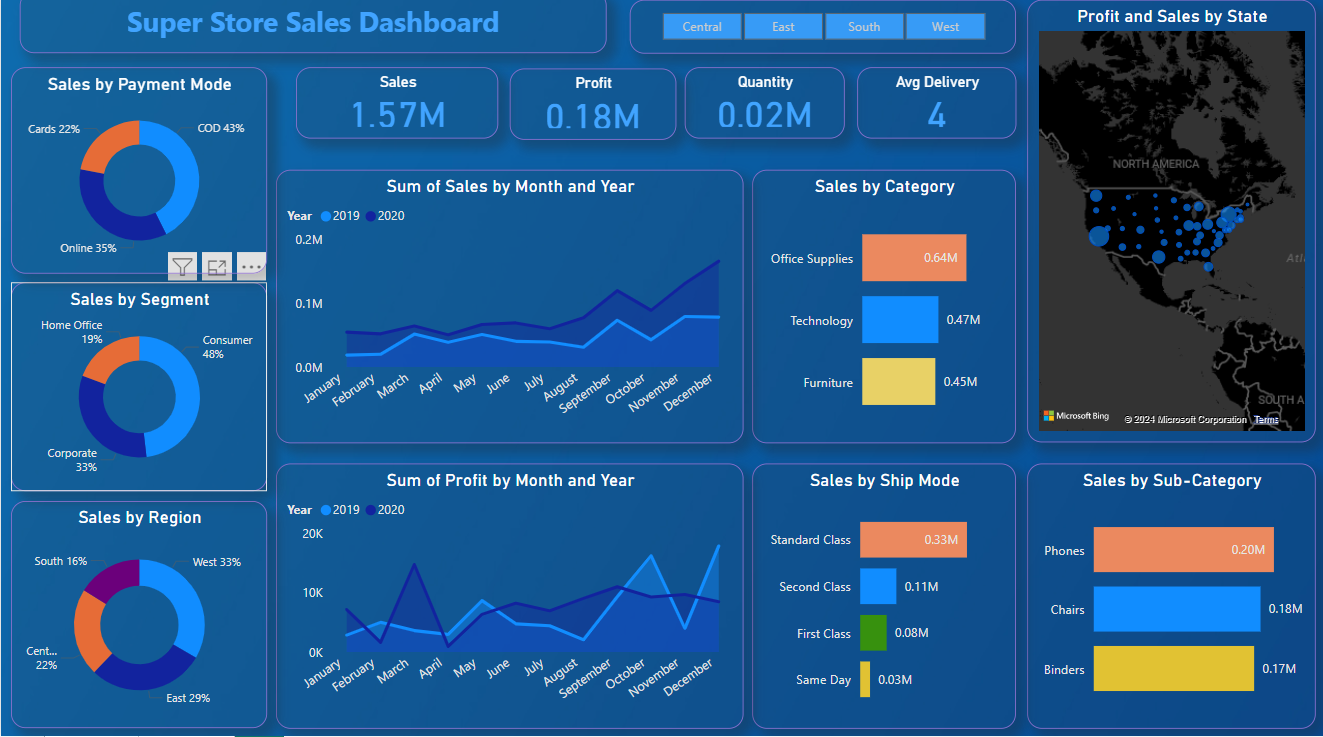

What the dashboard file says about the page in this screenshot:
{"tool":"powerbi","page":{"name":"Page 1","canvas":[1280,720],"ordinal":0},"visuals":[{"type":"clusteredBarChart","title":"Sales by Category","fields":{"Category":["Sheet1.Category"],"Y":["Sum(Sheet1.Sales)"]},"box":[725.1,172.5,254.6,264.2],"z":0},{"type":"clusteredBarChart","title":"Sales by Sub-Category","fields":{"Category":["Sheet1.Sub-Category"],"Y":["Sum(Sheet1.Sales)"]},"box":[990.5,456,278.7,255.8],"z":1000},{"type":"clusteredBarChart","title":"Sales by Ship Mode","fields":{"Y":["Sum(Sheet1.Sales)"],"Category":["Sheet1.Ship Mode"]},"box":[725.1,456,254.6,255.8],"z":2000},{"type":"areaChart","fields":{"Category":["Sheet1.Order Date.Variation.Date Hierarchy.Month","Sheet1.Order Date.Variation.Date Hierarchy.Day"],"Y":["Sum(Sheet1.Sales)"],"Series":["Sheet1.Order Date.Variation.Date Hierarchy.Year"]},"box":[265.4,172.5,451.2,264.2],"z":3000},{"type":"areaChart","fields":{"Category":["Sheet1.Order Date.Variation.Date Hierarchy.Month","Sheet1.Order Date.Variation.Date Hierarchy.Day"],"Series":["Sheet1.Order Date.Variation.Date Hierarchy.Year"],"Y":["Sum(Sheet1.Profit)"]},"box":[265.4,456,451.2,255.8],"z":4000},{"type":"map","title":"Profit and Sales by State","fields":{"Category":["Sheet1.State"],"Size":["Sum(Sheet1.Sales)"]},"box":[990.5,8.4,278.7,427.1],"z":5000},{"type":"donutChart","title":"Sales by Segment","fields":{"Category":["Sheet1.Segment"],"Y":["Sum(Sheet1.Sales)"]},"box":[9.7,281.1,247.3,201.5],"z":6000},{"type":"donutChart","title":"Sales by Region","fields":{"Category":["Sheet1.Region"],"Y":["Sum(Sheet1.Sales)"]},"box":[9.7,492.2,247.3,219.6],"z":7000},{"type":"slicer","fields":{"Values":["Sheet1.Region"]},"box":[606.8,8.4,372.8,51.9],"z":8000},{"type":"textbox","box":[17.8,0,566.7,60.4],"z":9000},{"type":"card","title":"Sales","fields":{"Values":["Sum(Sheet1.Sales)"]},"box":[284.7,73.6,195.4,68.8],"z":10000},{"type":"card","title":"Profit","fields":{"Values":["Sum(Sheet1.Profit)"]},"box":[491,74.8,160.5,68.8],"z":11000},{"type":"card","title":"Quantity","fields":{"Values":["Sum(Sheet1.Quantity)"]},"box":[659.9,73.6,154.4,68.8],"z":12000},{"type":"card","title":"Avg Delivery","fields":{"Values":["Avg(Sheet1.avgDelivery)"]},"box":[826.4,73.6,153.2,68.8],"z":13000},{"type":"donutChart","title":"Sales by Payment Mode","fields":{"Category":["SuperStore_Sales.Payment Mode"],"Y":["Sum(Sheet1.Sales)"]},"box":[9.7,73.6,247.3,199.1],"z":15000}]}

Visuals, with their boxes in screenshot pixels (x1, y1, x2, y2), scaled from the page's 1280x720 canvas onto the 1323x737 screenshot:
"Sales by Category" clusteredBarChart: 749/177/1013/447
"Sales by Sub-Category" clusteredBarChart: 1024/467/1312/729
"Sales by Ship Mode" clusteredBarChart: 749/467/1013/729
areaChart - Sheet1.Order Date.Variation.Date Hierarchy.Month x Sheet1.Order Date.Variation.Date Hierarchy.Day: 274/177/741/447
areaChart - Sheet1.Order Date.Variation.Date Hierarchy.Month x Sheet1.Order Date.Variation.Date Hierarchy.Day: 274/467/741/729
"Profit and Sales by State" map: 1024/9/1312/446
"Sales by Segment" donutChart: 10/288/266/494
"Sales by Region" donutChart: 10/504/266/729
slicer - Sheet1.Region: 627/9/1013/62
textbox: 18/0/604/62
"Sales" card: 294/75/496/146
"Profit" card: 507/77/673/147
"Quantity" card: 682/75/842/146
"Avg Delivery" card: 854/75/1013/146
"Sales by Payment Mode" donutChart: 10/75/266/279
